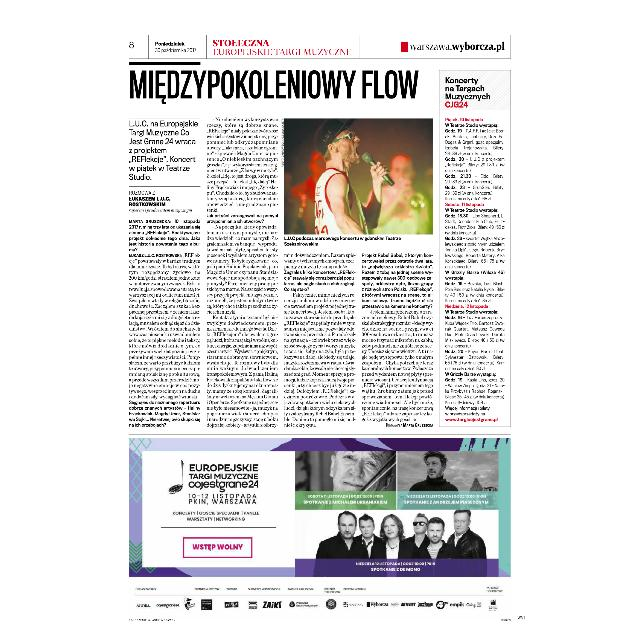article: (126, 61, 436, 430)
